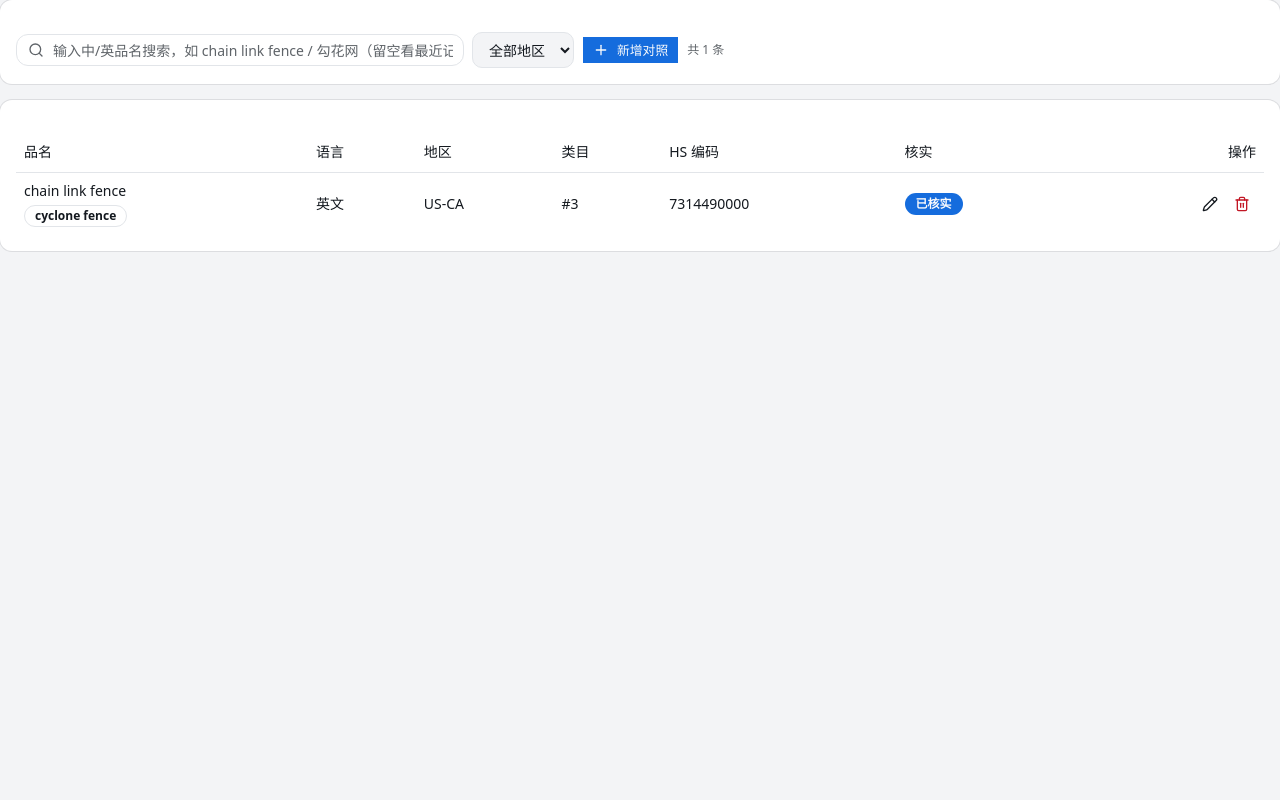
Scenario: NameMappingPanel · 删除（DELETE） › 取消确认 → 不发 DELETE，弹窗关闭
Click the button named "删除 chain link fence": (1242, 204) [1228, 190, 1256, 218]
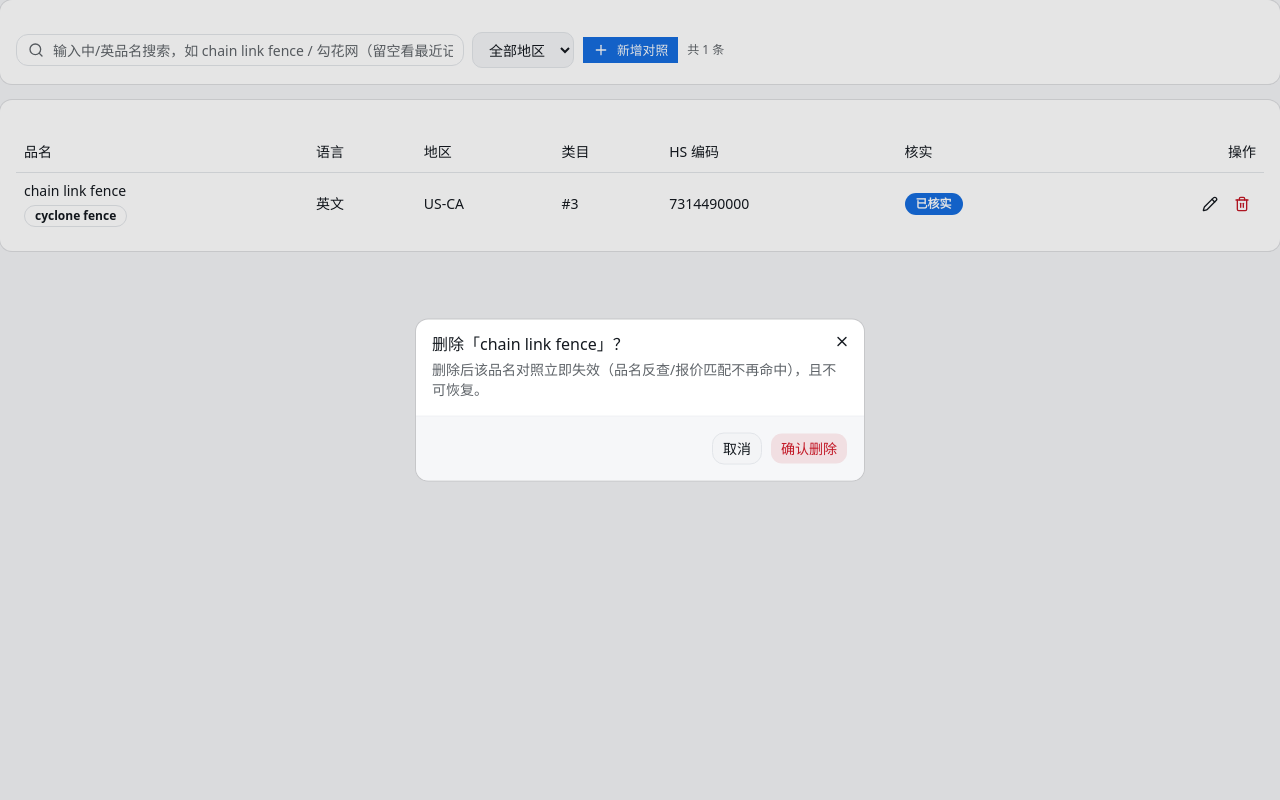
Now the text "删除「chain link fence」？" is shown, box [432, 332, 629, 354]
Click the button "取消": (737, 448) [712, 432, 762, 464]
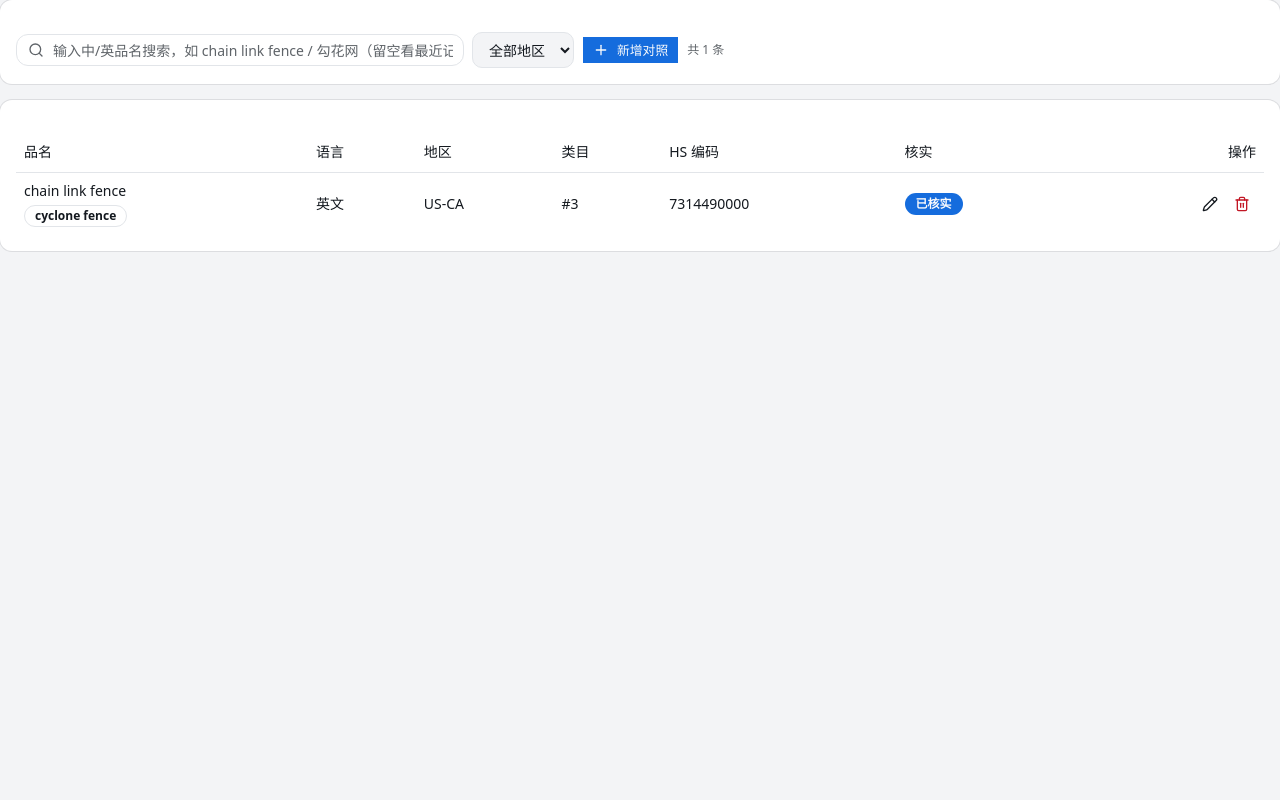
Now the text "删除「chain link fence」？" is gone
